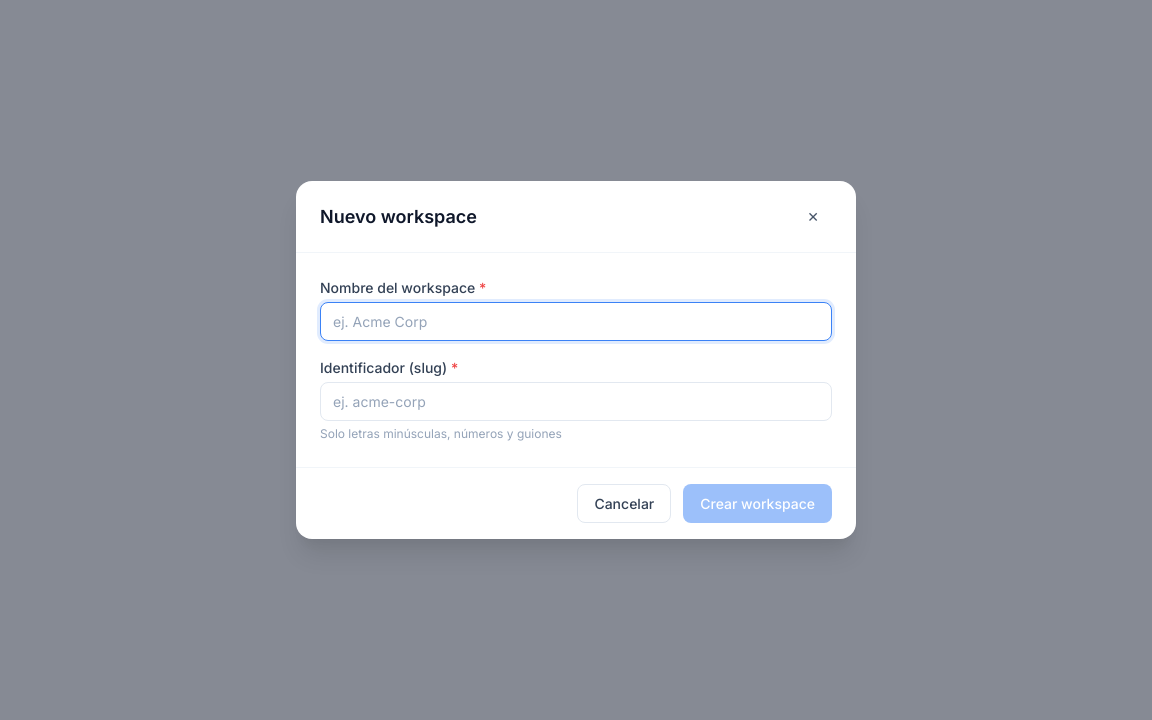
Test case: CreateWorkspaceModal › auto-generates slug from name
Type "Mi Empresa" into the field labelled "Nombre del workspace *" at (576, 322), box [320, 302, 832, 341]
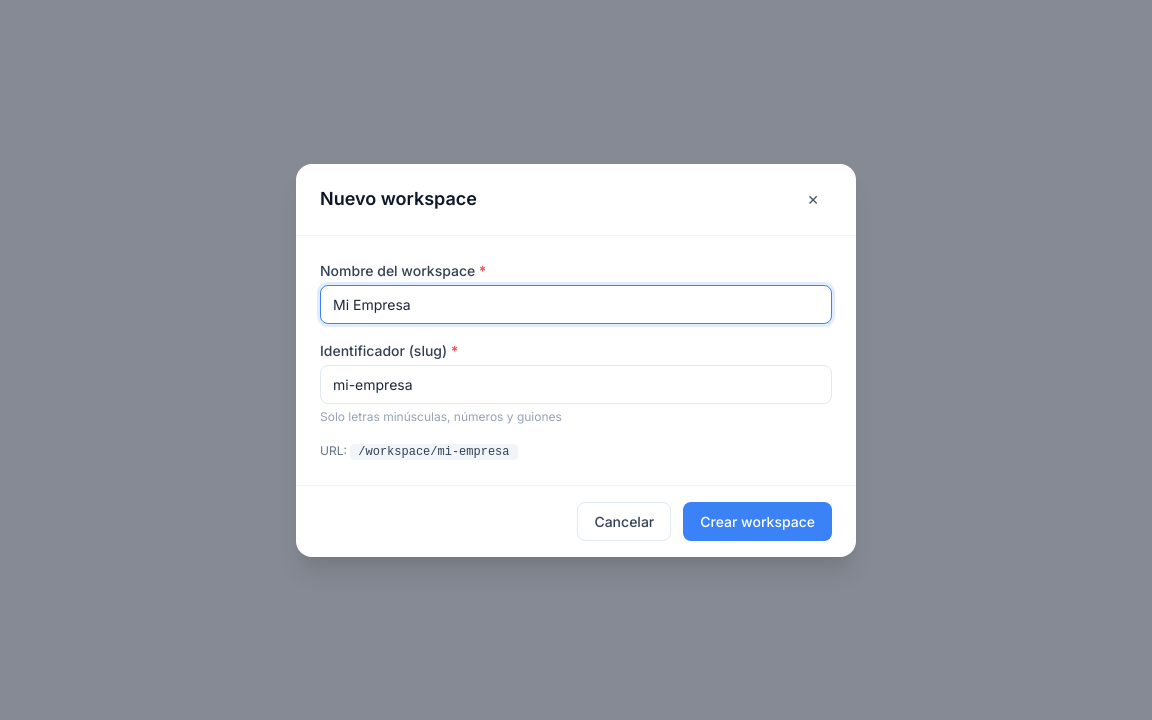
Result: the field labelled "Identificador (slug) *" holds "mi-empresa" at [320, 364, 832, 404]
